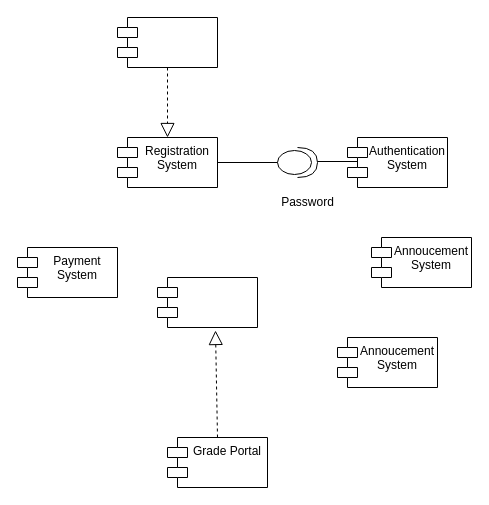
Image size: 489x505. Some labels were removed from this diagram. The centre of each missing label's shape, as x and y in pixels:
"Course Management" belongs at (167,42).
"Grade System" belongs at (207,302).
